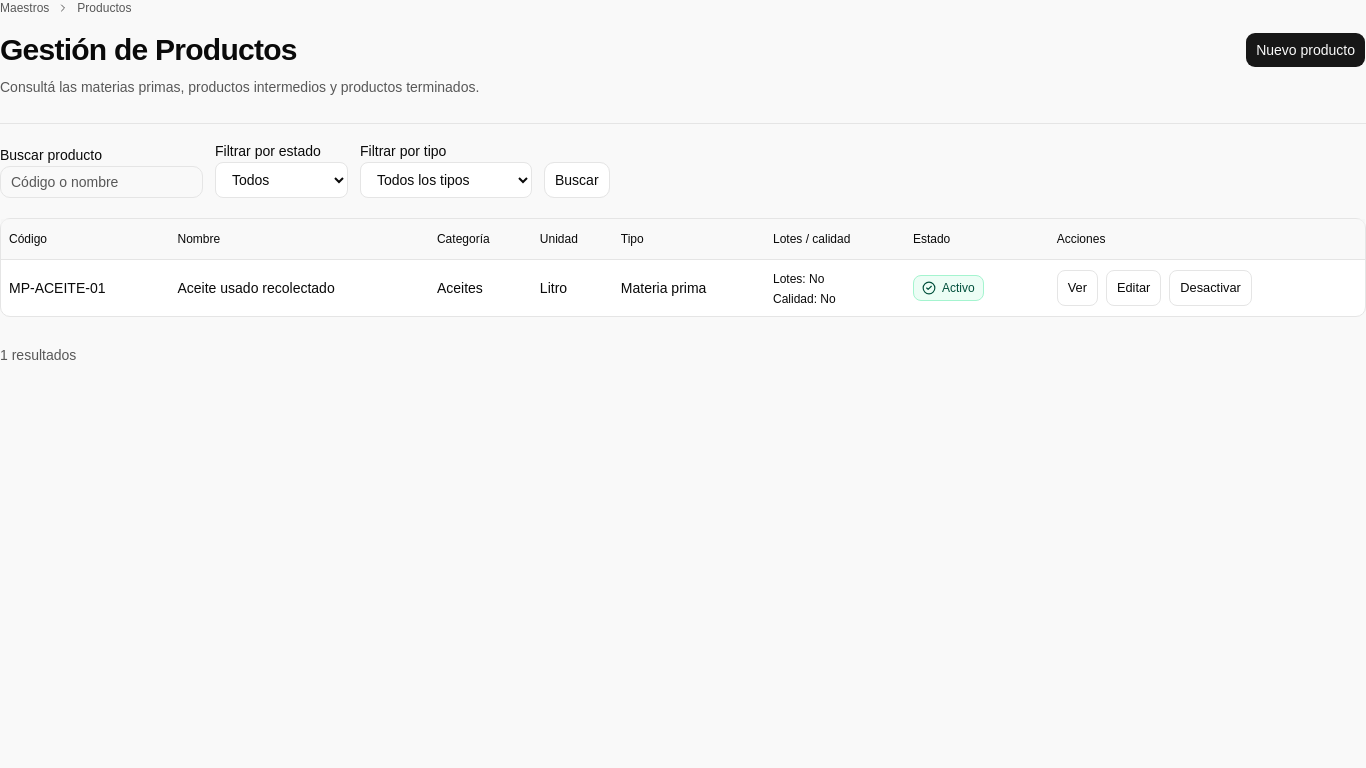
Scenario: Productos: interfaz de Inventario › rechaza inspección de calidad sin trazabilidad al crear
The width and height of the screenshot is (1366, 768).
Expected: the table named "Productos" is shown, x1=1 y1=219 x2=1365 y2=316
Click the button "Nuevo producto" at (1306, 50), box x1=1245 y1=32 x2=1365 y2=68
(page scrolled)
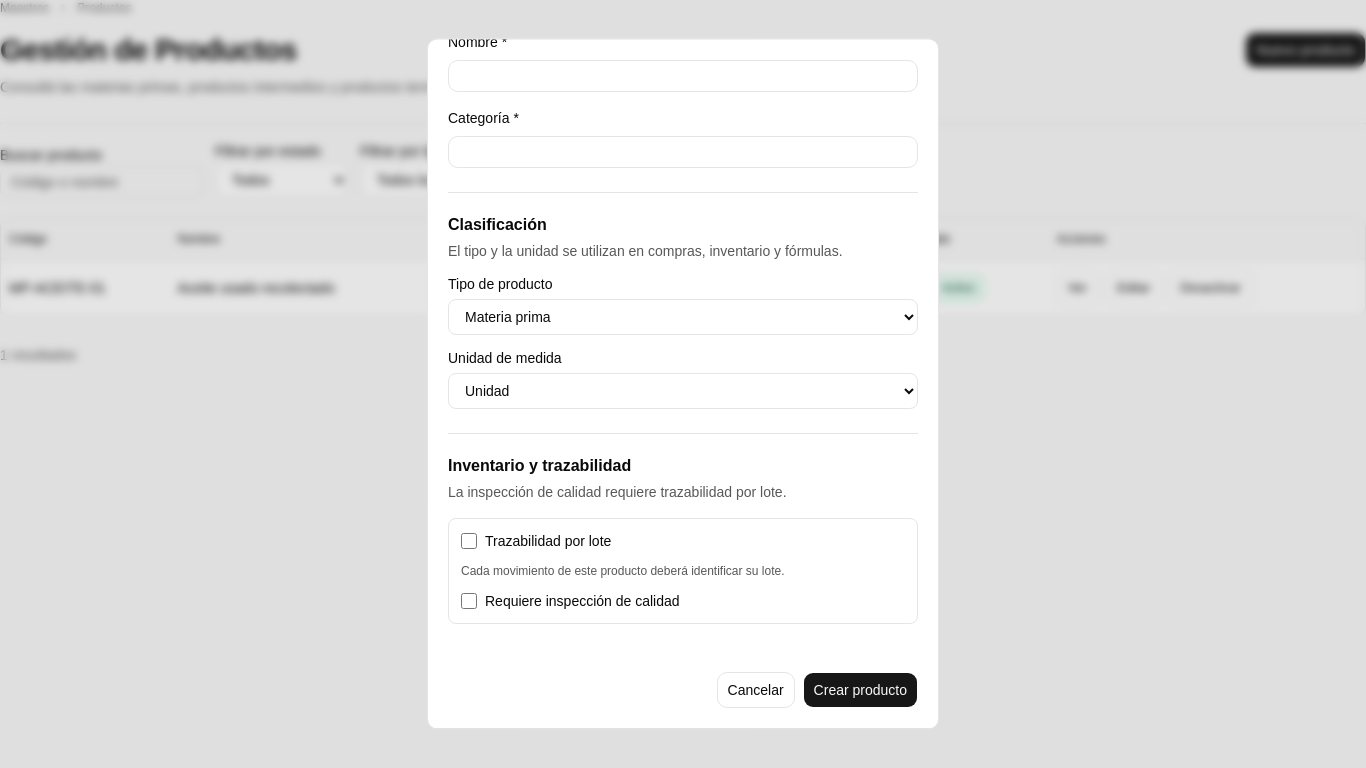
Click the checkbox labelled "Requiere inspección de calidad" at (469, 601), box x1=461 y1=593 x2=477 y2=609
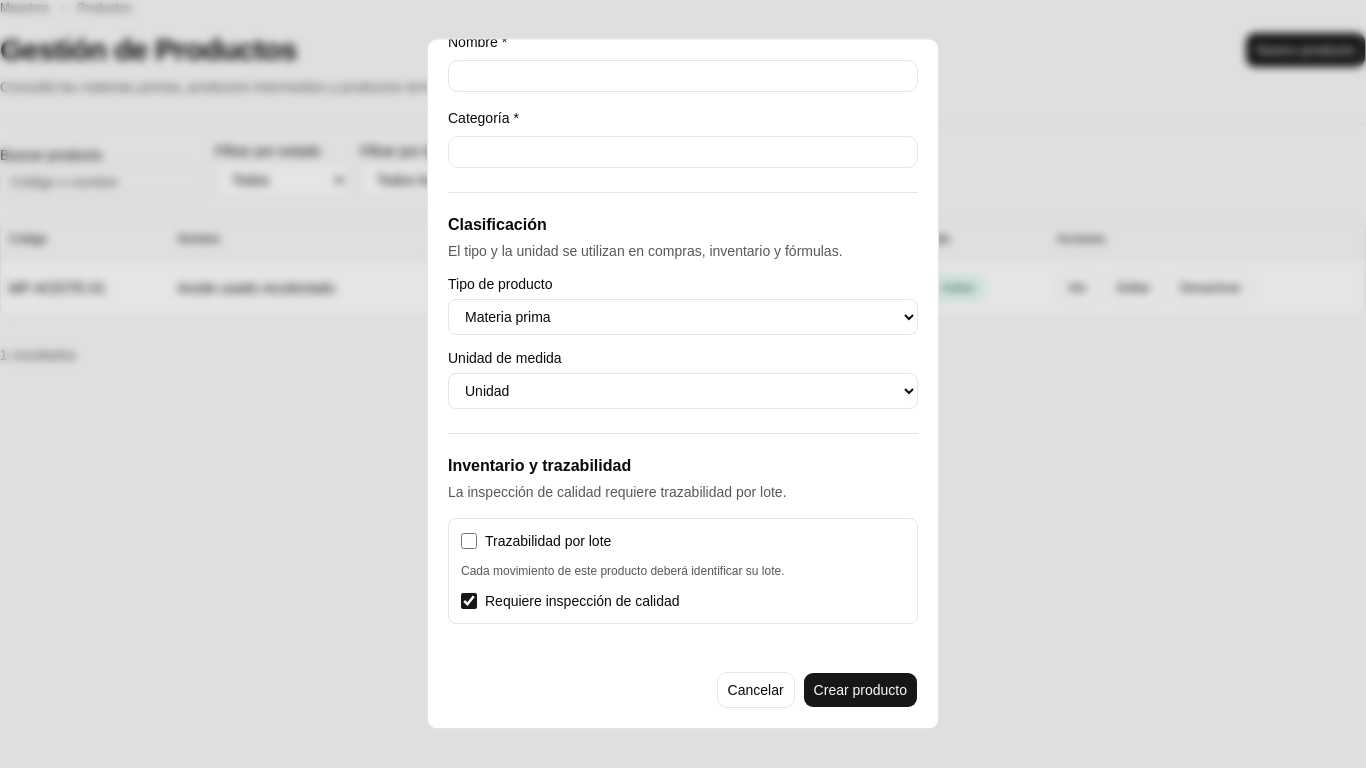
Click the button "Crear producto" at (860, 690), box x1=803 y1=672 x2=918 y2=708
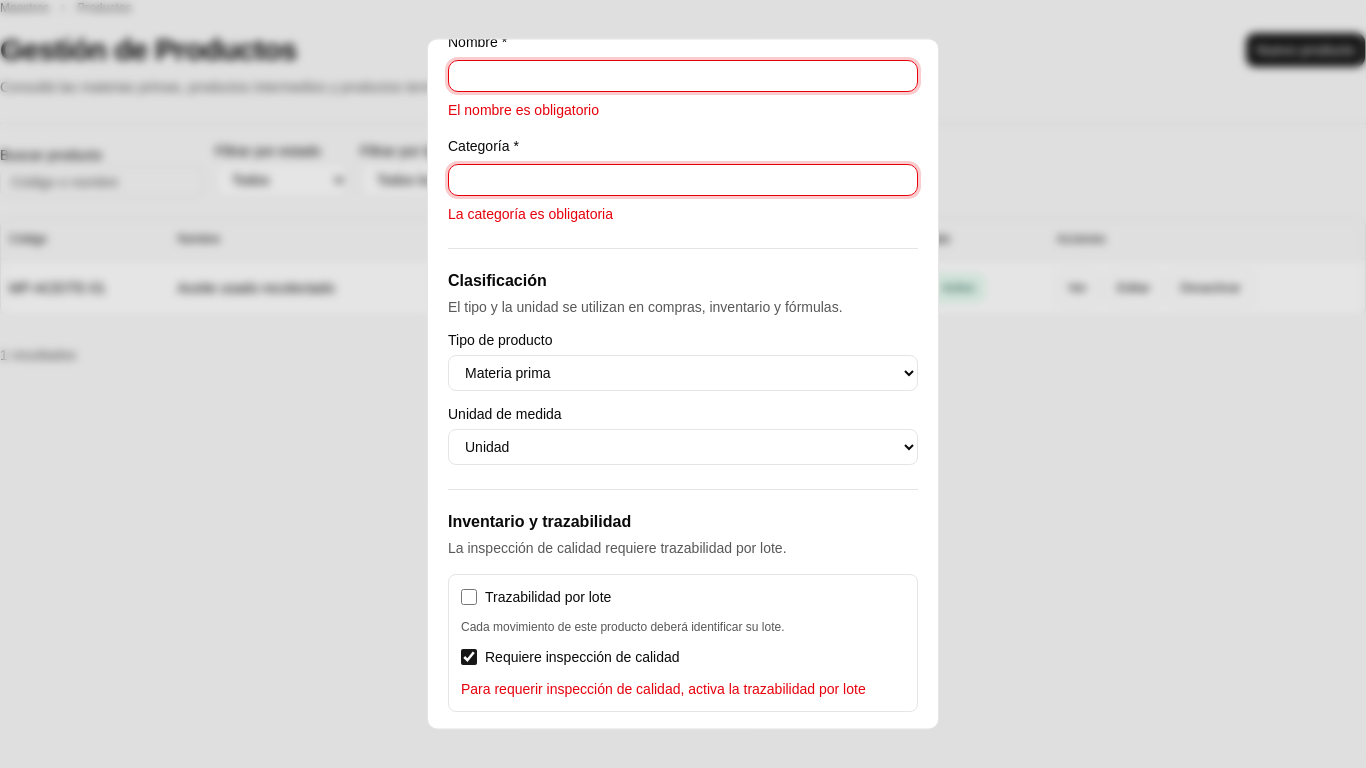
Expected: the text "Para requerir inspección de calidad, activa la trazabilidad por lote" is shown, x1=461 y1=679 x2=905 y2=699
